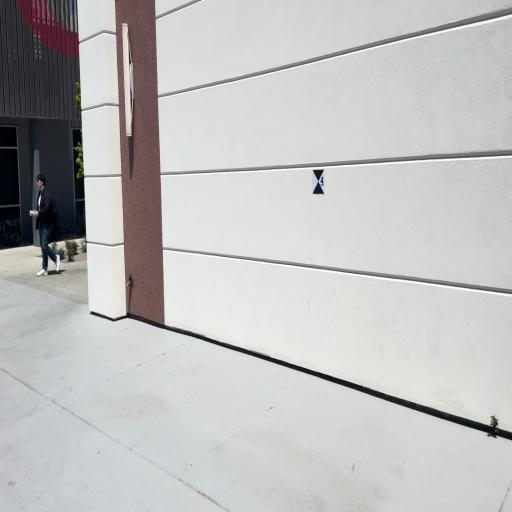target4: (313, 169, 325, 195)
